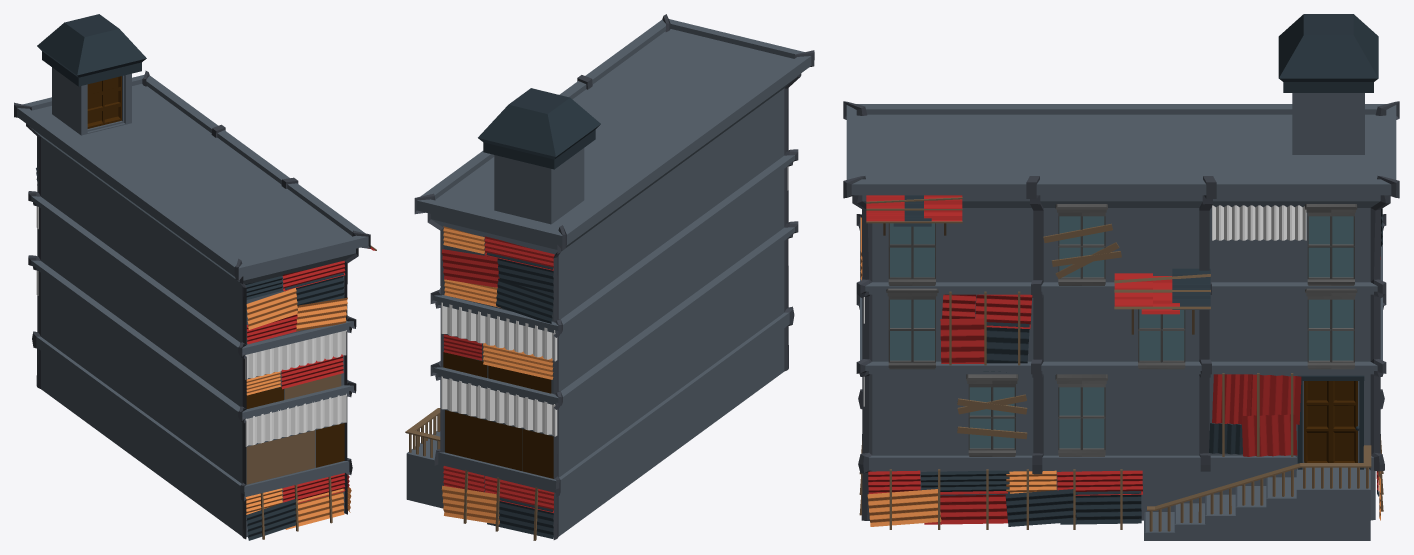
The model's file is MainSlumsApartment.fbx_MainSlum.fbx.
3 views of the same model, side by side, from view 1: azimuth 30°, elevation 25°; view 2: azimuth 150°, elevation 25°; view 3: azimuth 270°, elevation 25° (orthographic). The views are drawn at different scales.
Visible parts, largest first — view 1: Cube; view 2: Cube; view 3: Cube.
Boxes of the visible parts, x1,y1,x2,y2 form: Cube: [14, 14, 376, 540]; Cube: [405, 14, 814, 540]; Cube: [843, 14, 1399, 540].
Size of the model in its own units: 4598 by 1867 by 4191.
